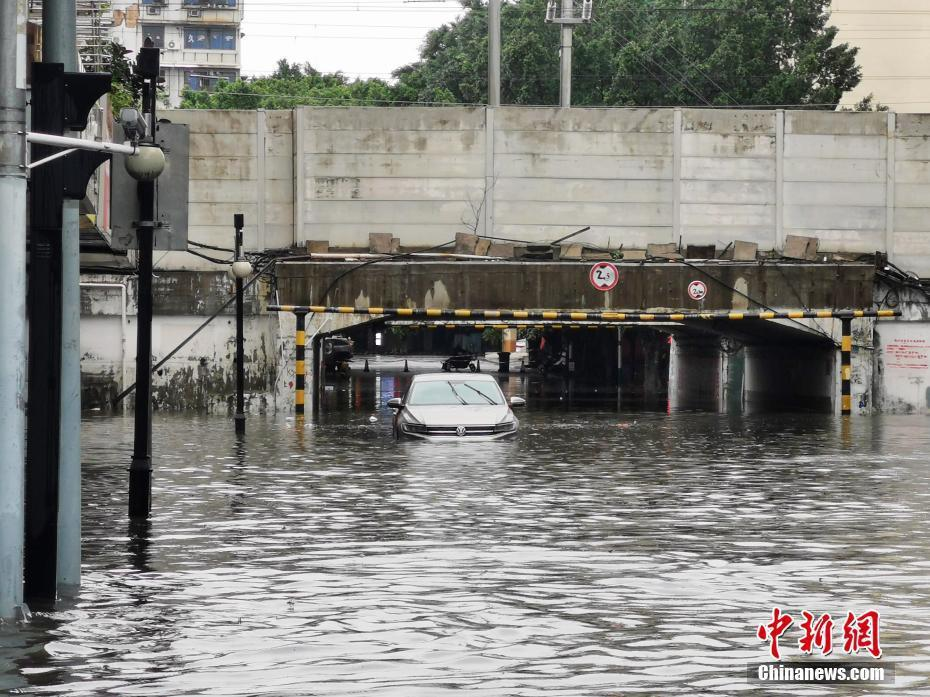water: (0, 364, 928, 696)
